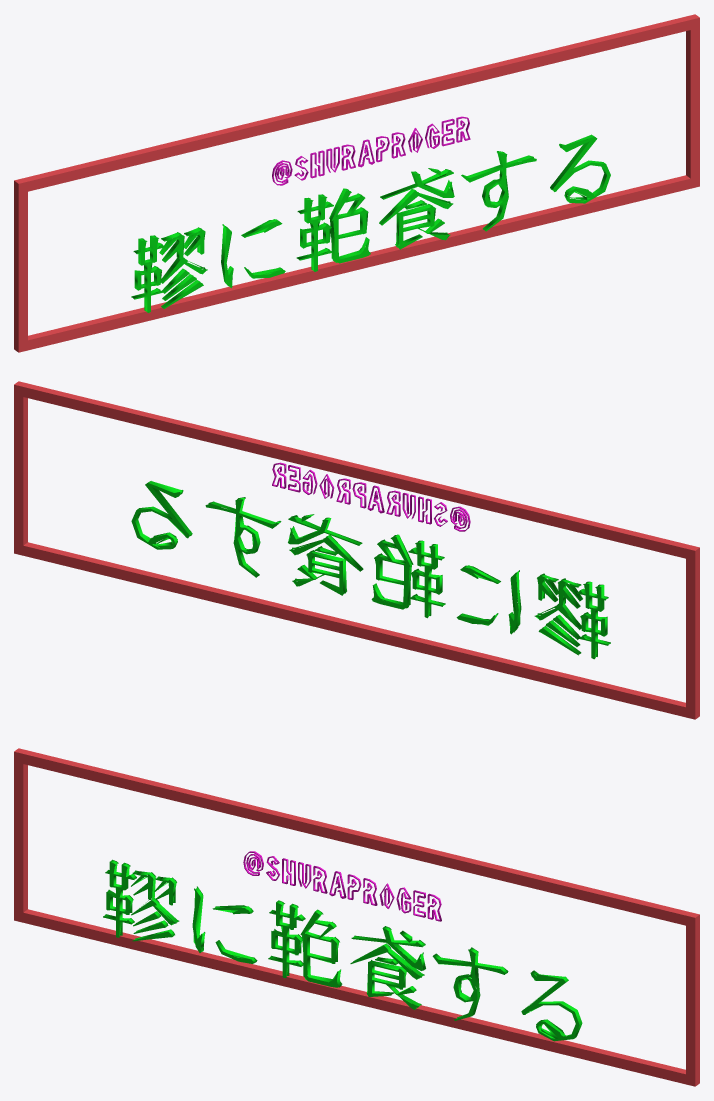
Rendered from insta2.fbx.
3 views of the same model, one above another, from view 1: azimuth 30°, elevation 25°; view 2: azimuth 150°, elevation 25°; view 3: azimuth 330°, elevation 25° (orthographic).
Parts seen in each view (by area): view 1: Plane.014, Text.005, Text.004; view 2: Plane.014, Text.005, Text.004; view 3: Plane.014, Text.005, Text.004.
Part boxes in pixels (bbox=[...]): Plane.014: bbox=[14, 14, 699, 352]; Text.005: bbox=[131, 134, 610, 312]; Text.004: bbox=[272, 116, 470, 185]; Plane.014: bbox=[14, 381, 699, 719]; Text.005: bbox=[131, 481, 610, 659]; Text.004: bbox=[272, 462, 470, 531]; Plane.014: bbox=[14, 748, 699, 1086]; Text.005: bbox=[103, 859, 582, 1041]; Text.004: bbox=[243, 851, 441, 921].
Size of the model in its own units: 23.03 by 5.45 by 1.05.
